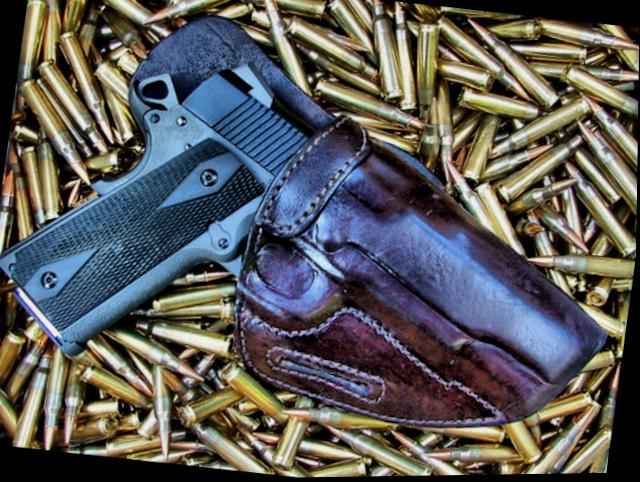pistol: (0, 29, 636, 449)
